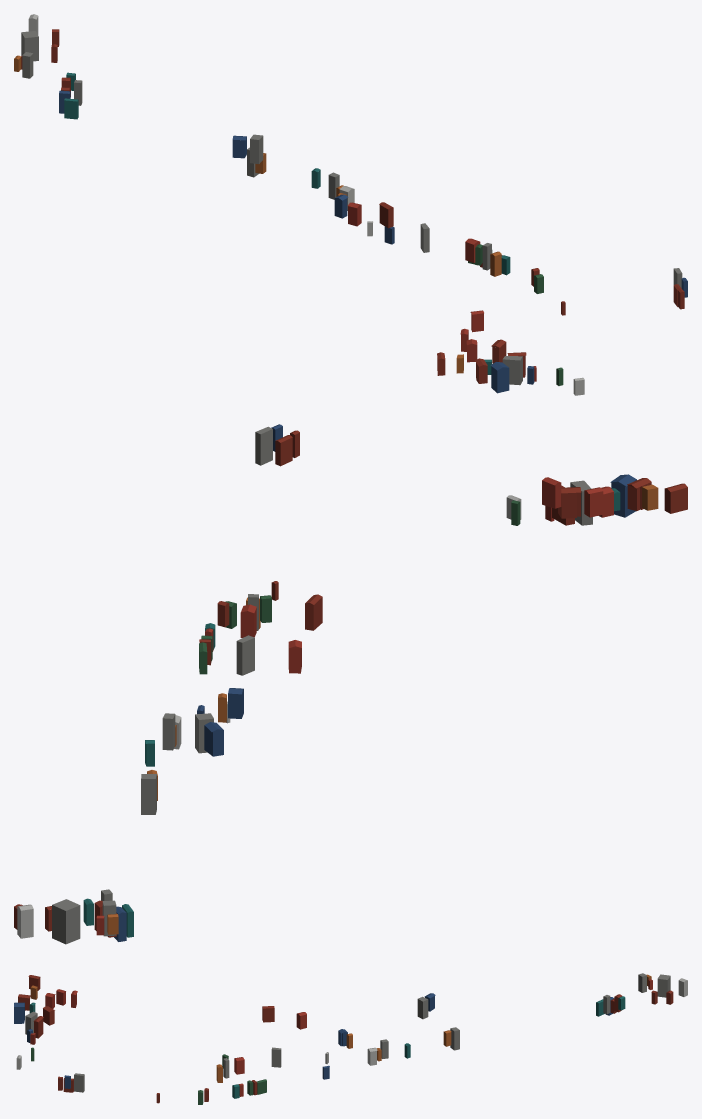
Rendered from near-15-27362-14877.c3f9e0cc.glb.
The picture shows the model from 3 angles, top to bottom: view 1: azimuth 30°, elevation 25°; view 2: azimuth 150°, elevation 25°; view 3: azimuth 270°, elevation 25°; orthographic projection. The views are drawn at different scales.
Size of the model in its own units: 322 by 88.38 by 899.
